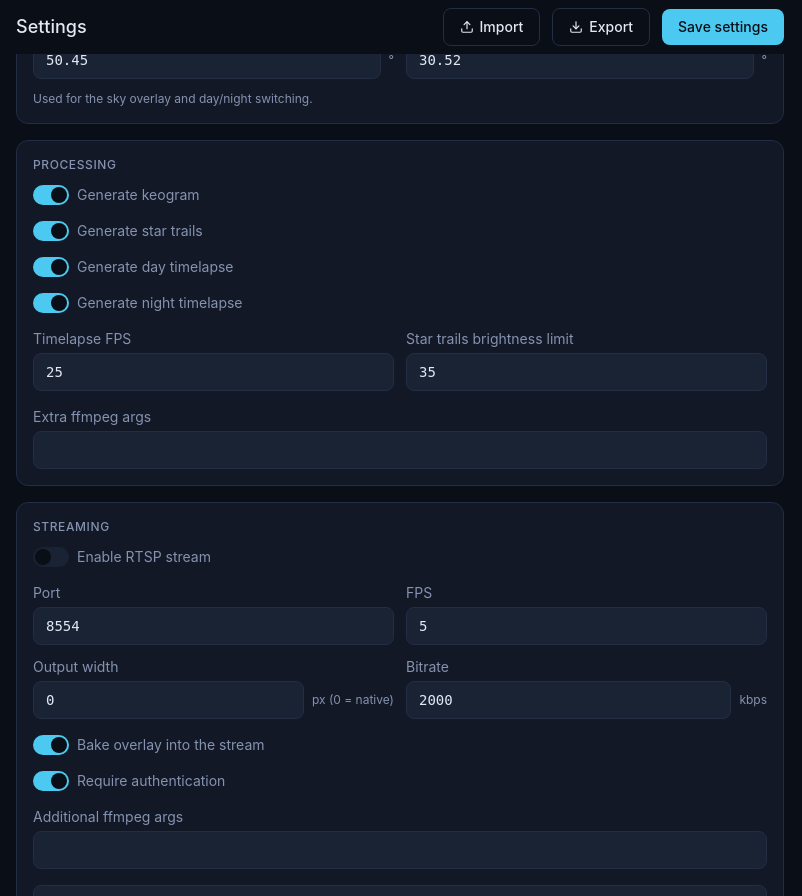
Test: SettingsPage › saves timelapse extra ffmpeg args through the api
(page scrolled)
Type "-preset veryfast" into the field labelled "Extra ffmpeg args" at (400, 450), box [33,431,767,469]
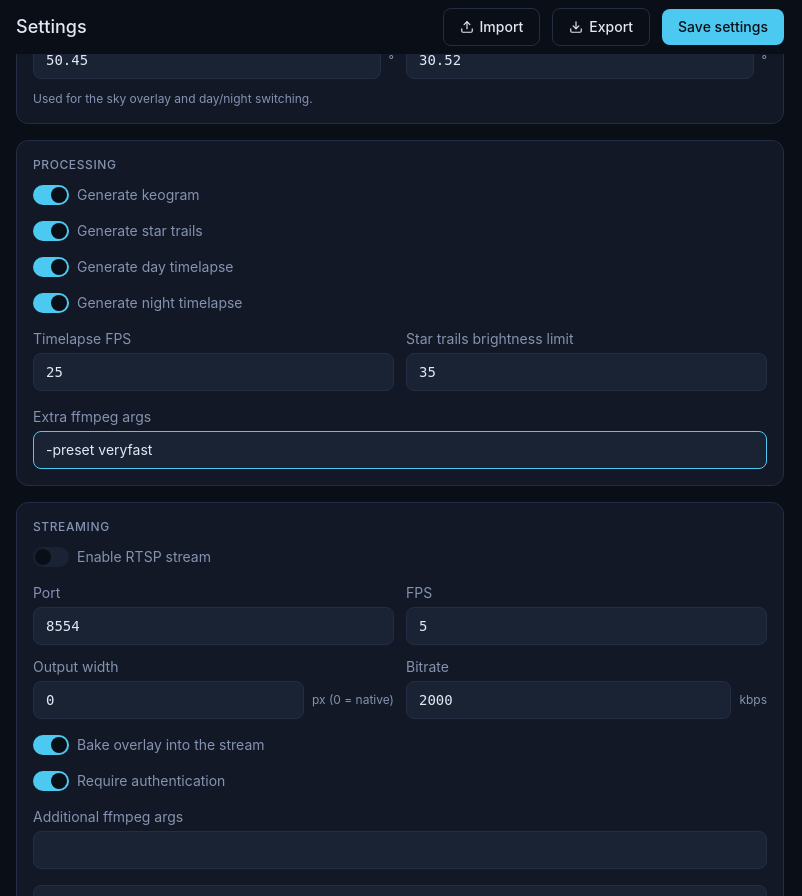
Click the button "Save settings" at (723, 27), box [662,9,784,45]
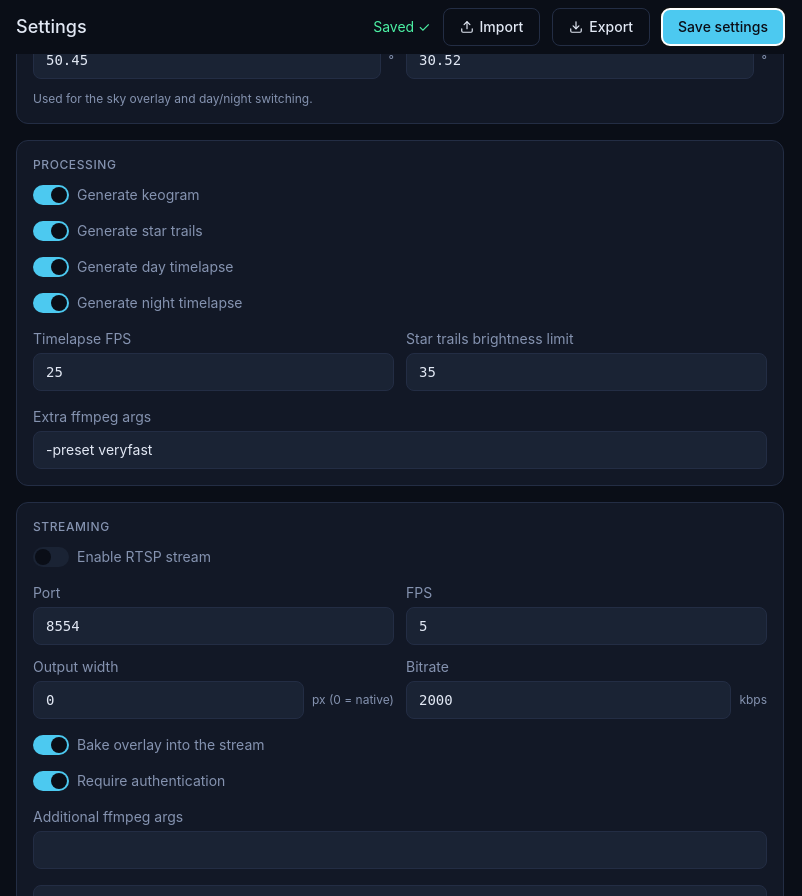
Now the text "Saved ✓" is shown, box [373,17,430,37]
